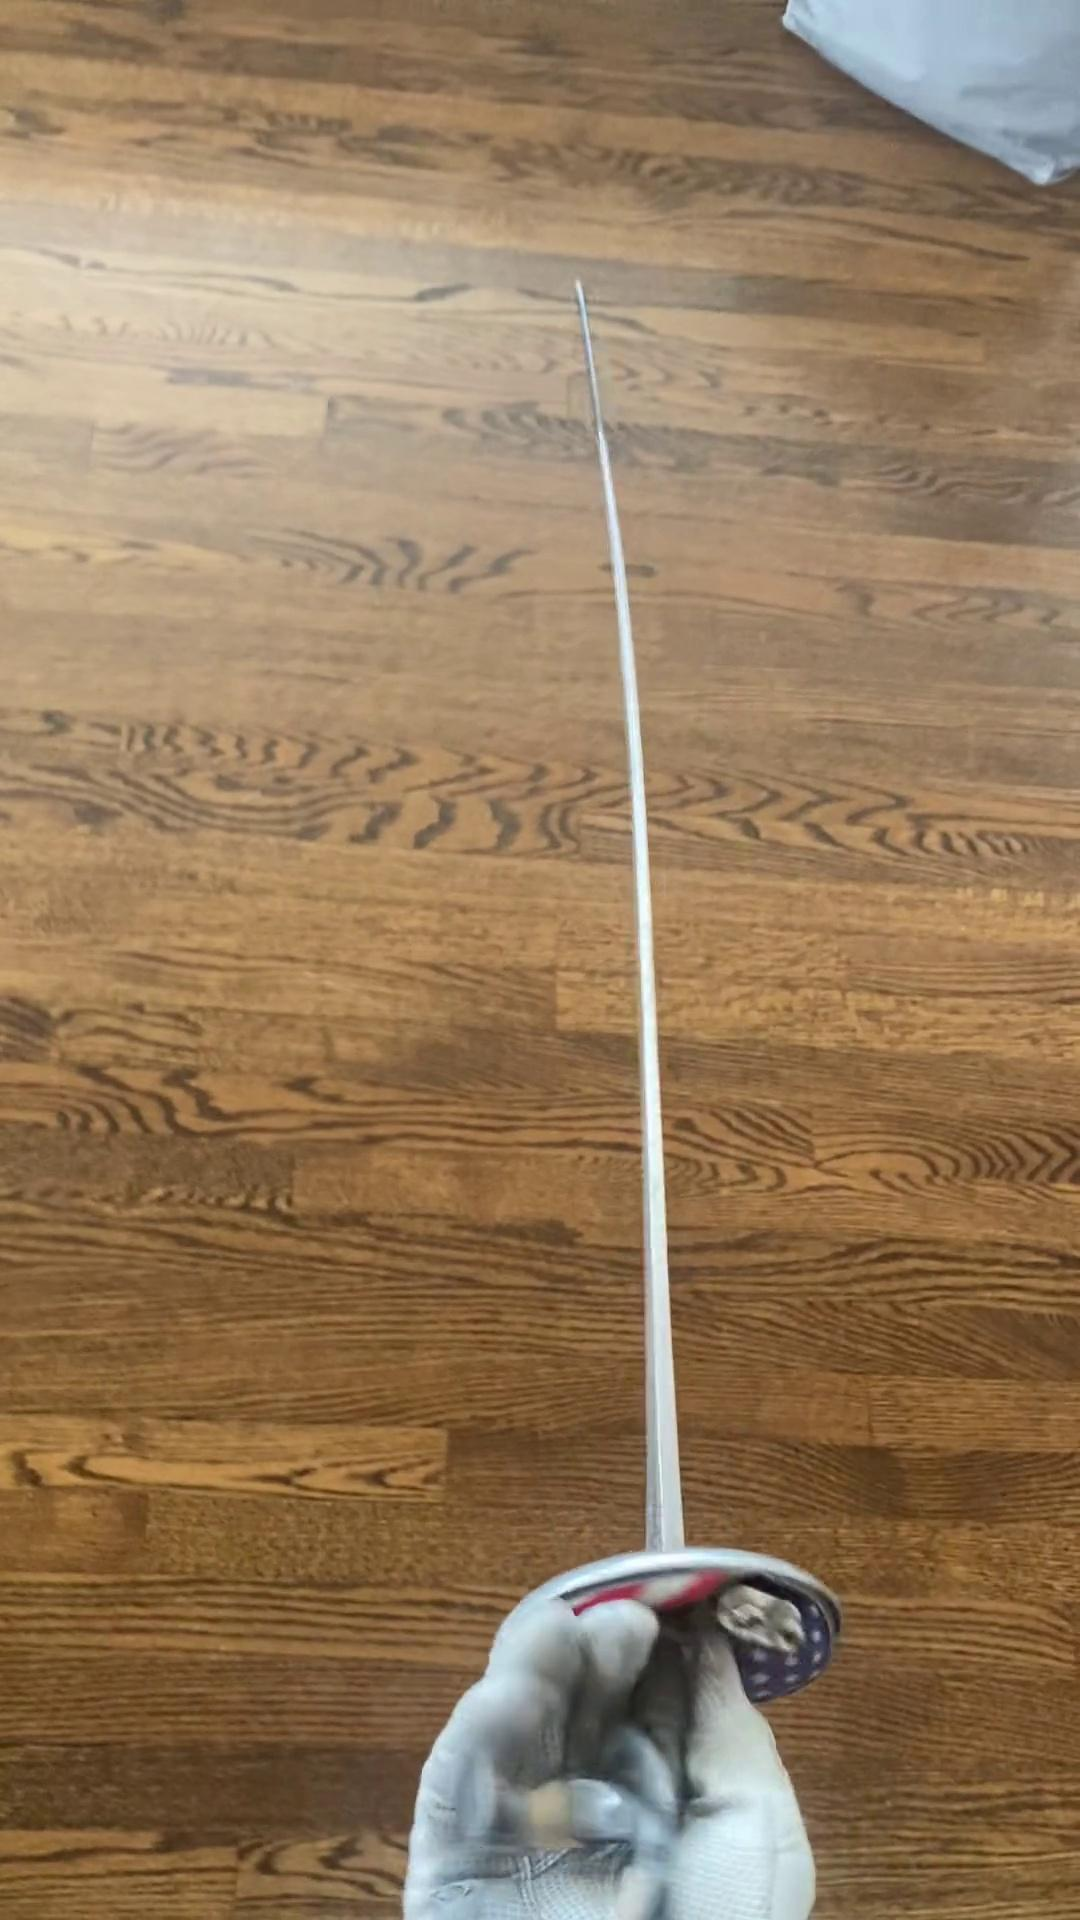blade-guard: (451, 1501, 874, 1786)
blade-tip: (511, 236, 658, 487)
fencing-blade: (471, 219, 873, 1919)
